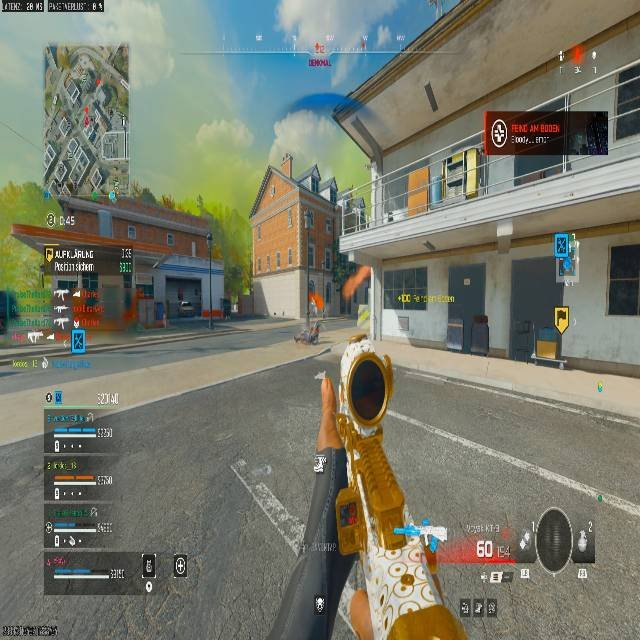head: (385, 605, 464, 640)
